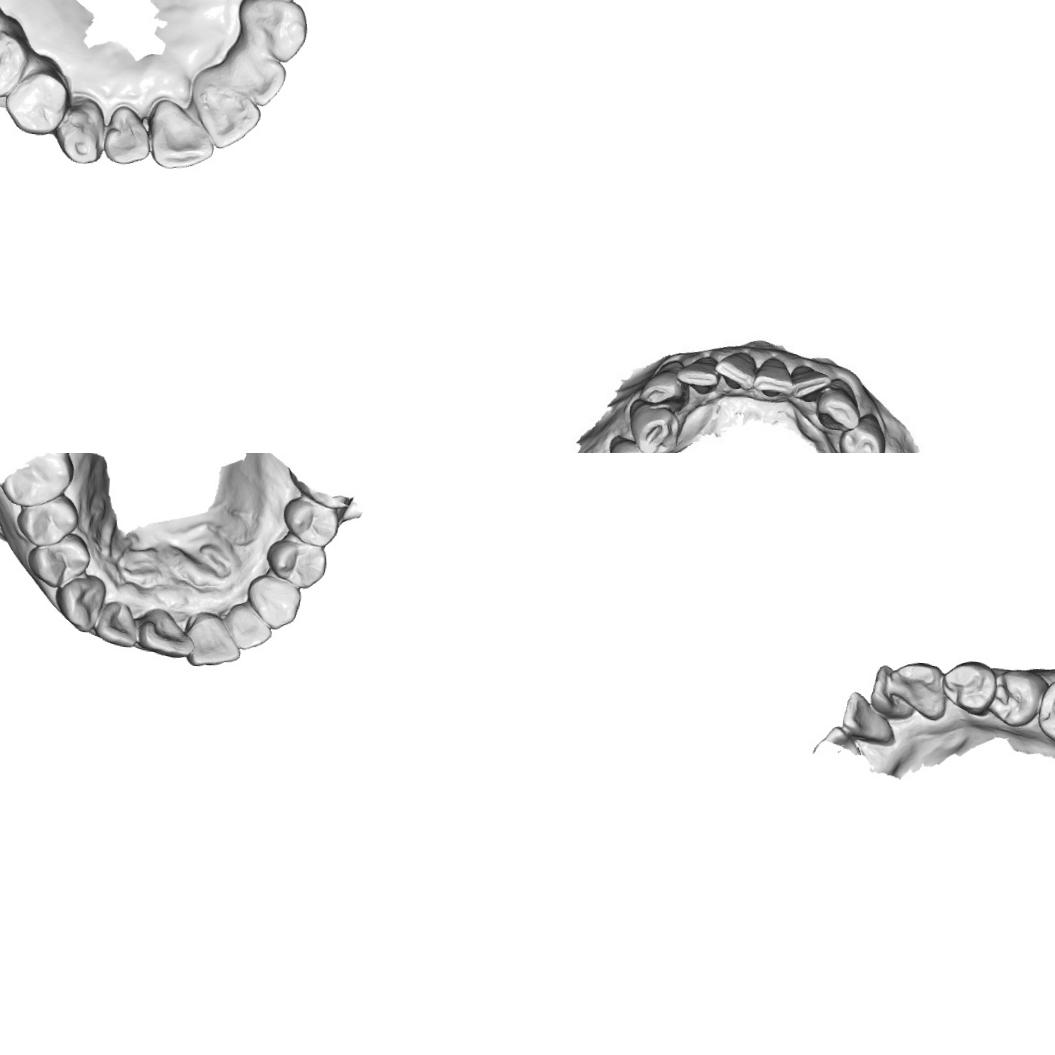canine: (234, 0, 309, 64), (884, 658, 952, 721), (51, 95, 107, 165), (51, 570, 106, 634), (243, 572, 303, 630), (638, 371, 689, 414), (818, 384, 860, 436)
incisor: (186, 66, 264, 150), (144, 96, 217, 171), (222, 42, 288, 108), (181, 608, 244, 668), (837, 688, 900, 747), (865, 660, 922, 723), (135, 604, 196, 660), (101, 103, 153, 168), (220, 600, 275, 653), (92, 598, 140, 648), (715, 350, 756, 389), (754, 358, 792, 400), (793, 360, 832, 394), (681, 355, 718, 389)
molar: (1032, 672, 1055, 758)
premolar: (2, 67, 70, 136), (984, 664, 1048, 729), (24, 530, 92, 591), (14, 488, 81, 549), (936, 654, 998, 718), (262, 535, 330, 591), (279, 492, 341, 548), (0, 25, 33, 100), (632, 405, 678, 451), (838, 422, 884, 453), (607, 443, 655, 453)
